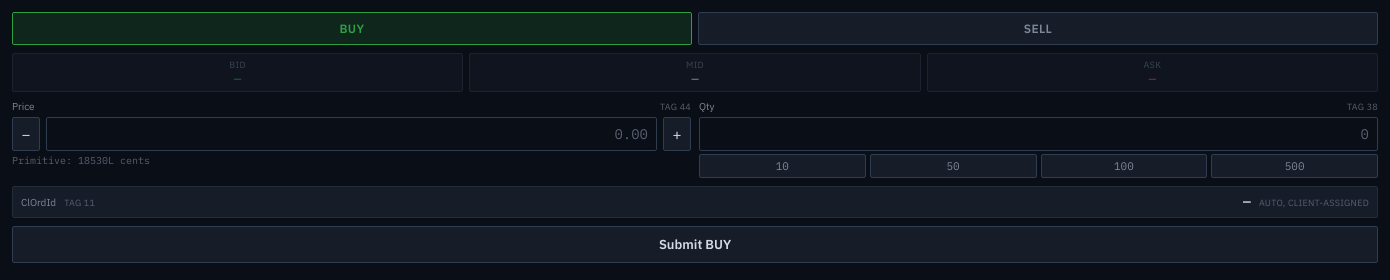
Scenario: <OrderEntry /> tick nudges (P7-7) › nudges the price up and down by one cent
Type "150.00" into the field with test id "price-input" at (352, 134), box [46,117,657,151]
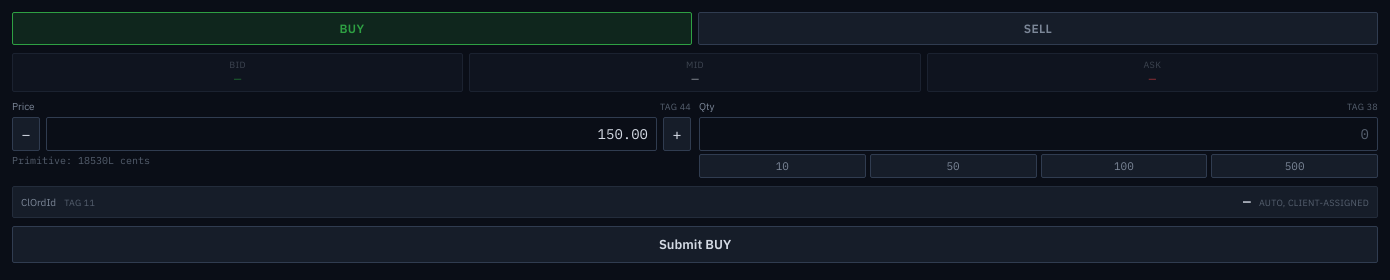
Click the button with test id "nudge-up" at (677, 134), box [663,117,691,151]
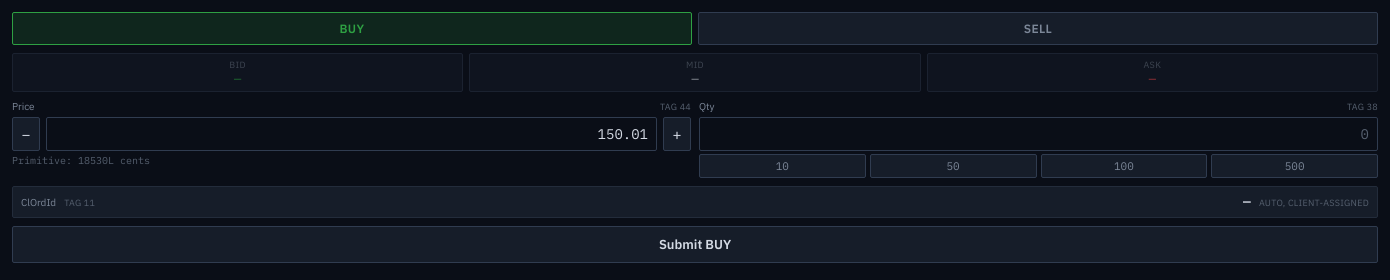
Check: the field with test id "price-input" holds "150.01", box [46,117,657,151]
Click the button with test id "nudge-down" at (26, 134), box [12,117,40,151]
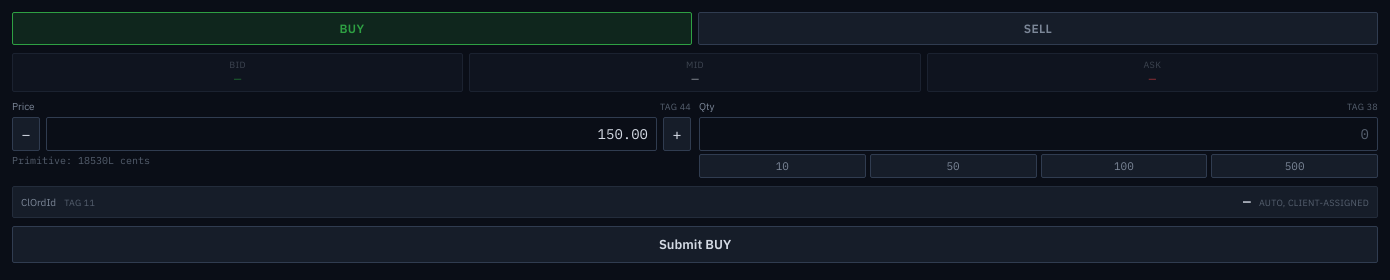
Click the button with test id "nudge-down" at (26, 134), box [12,117,40,151]
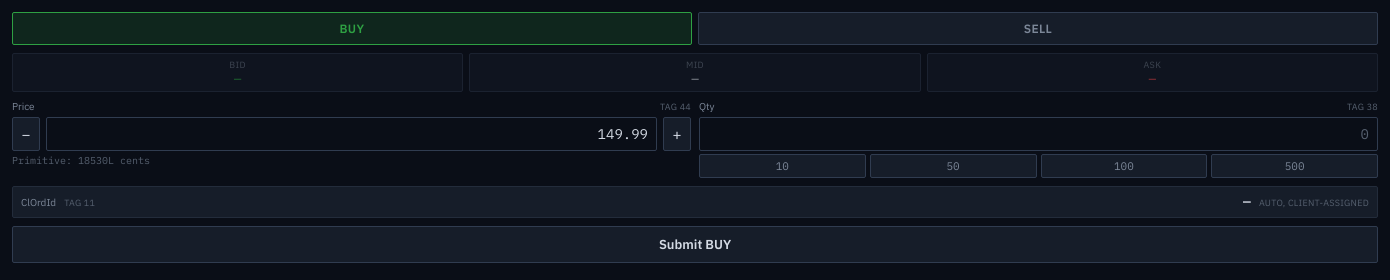
Check: the field with test id "price-input" holds "149.99", box [46,117,657,151]
